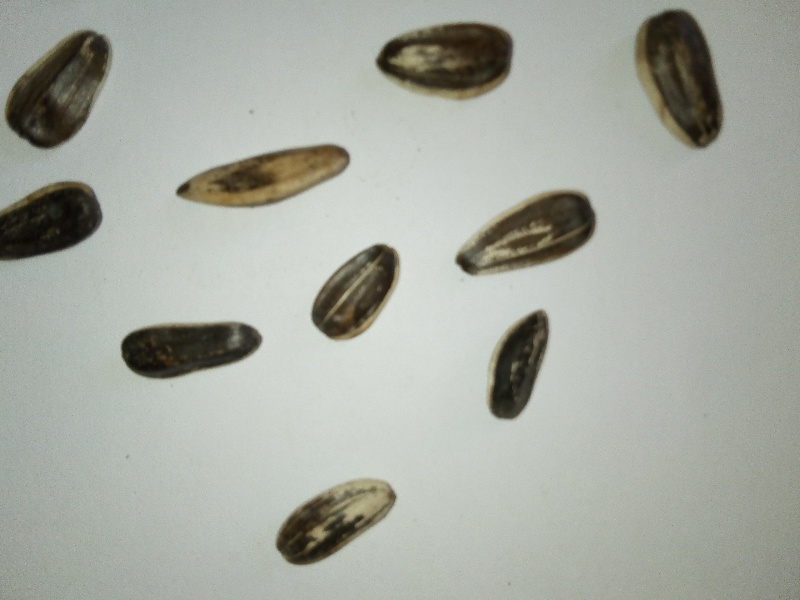girasol: (624, 6, 736, 159), (4, 23, 119, 156), (370, 14, 525, 111), (171, 136, 356, 217), (454, 185, 608, 278), (113, 314, 273, 392), (275, 477, 407, 568), (307, 238, 410, 346), (474, 308, 568, 425)
